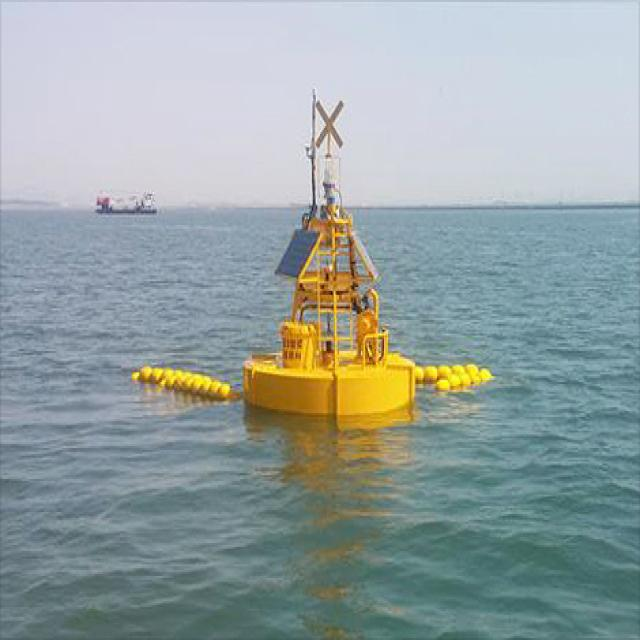buoy: (209, 77, 438, 452)
